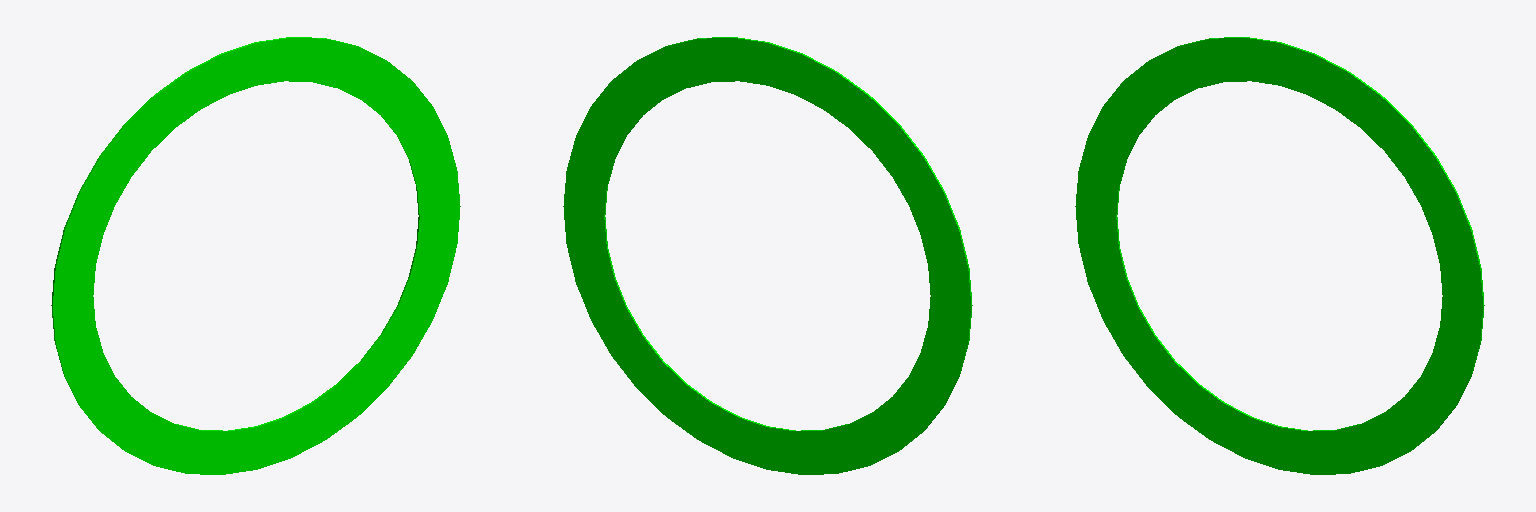
File: AxisHandleY.obj
3 views of the same model, side by side, from view 1: azimuth 30°, elevation 25°; view 2: azimuth 150°, elevation 25°; view 3: azimuth 330°, elevation 25° (orthographic).
Visible parts, largest first — view 1: AxisHandleY; view 2: AxisHandleY; view 3: AxisHandleY.
Part boxes in pixels (left/top/right/bottom): AxisHandleY: left=51, top=37, right=460, bottom=474; AxisHandleY: left=563, top=37, right=972, bottom=474; AxisHandleY: left=1075, top=37, right=1484, bottom=474.
Size of the model in its own units: 20 by 20 by 0.1.